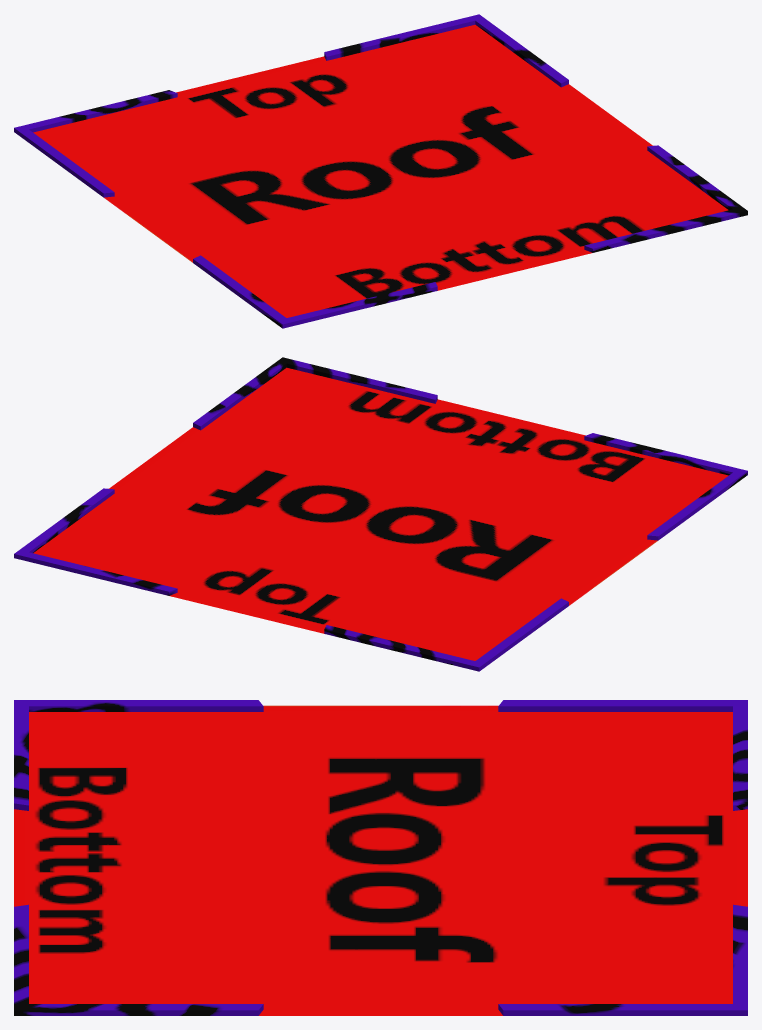
File: ENV_Roof_ThreeXThree_TypeOne.fbx
3 views of the same model, one above another, from view 1: azimuth 30°, elevation 25°; view 2: azimuth 150°, elevation 25°; view 3: azimuth 270°, elevation 25° (orthographic). The views are drawn at different scales.
Parts seen in each view (by area): view 1: ThreeXThreeRoofOne; view 2: ThreeXThreeRoofOne; view 3: ThreeXThreeRoofOne.
Boxes of the visible parts, <box> form: ThreeXThreeRoofOne: <box>14,14,747,328</box>; ThreeXThreeRoofOne: <box>14,357,747,671</box>; ThreeXThreeRoofOne: <box>14,700,747,1015</box>.
Size of the model in its own units: 36 by 0.3114 by 36.
